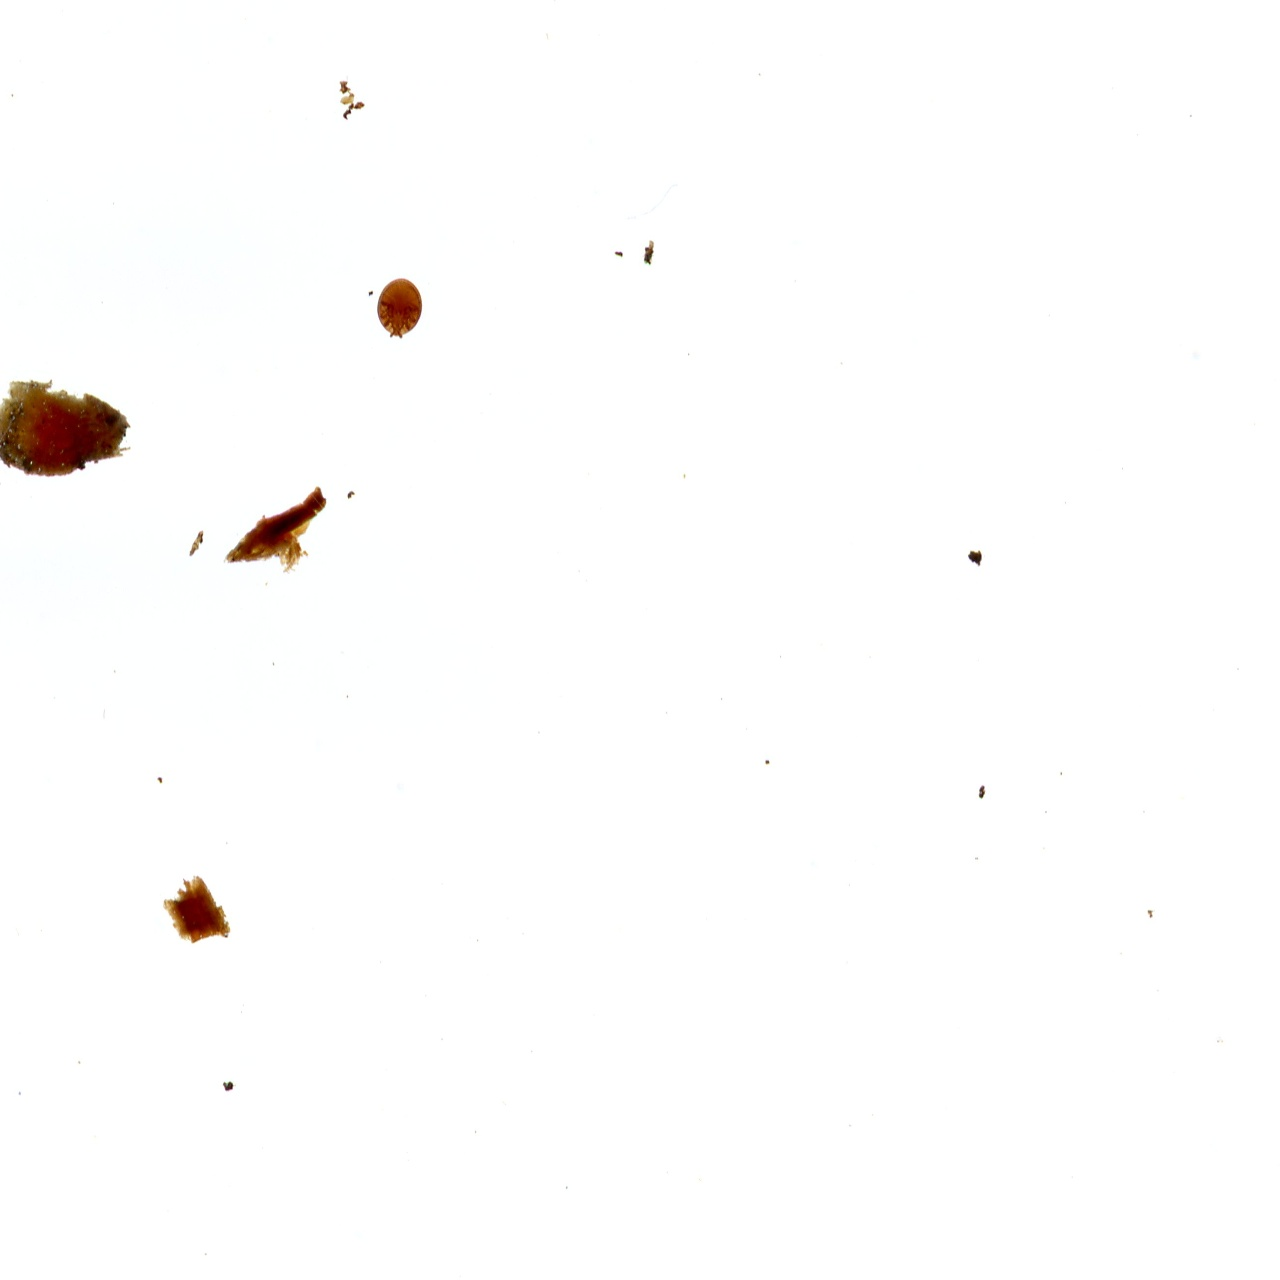arthropod: (372, 272, 425, 345)
